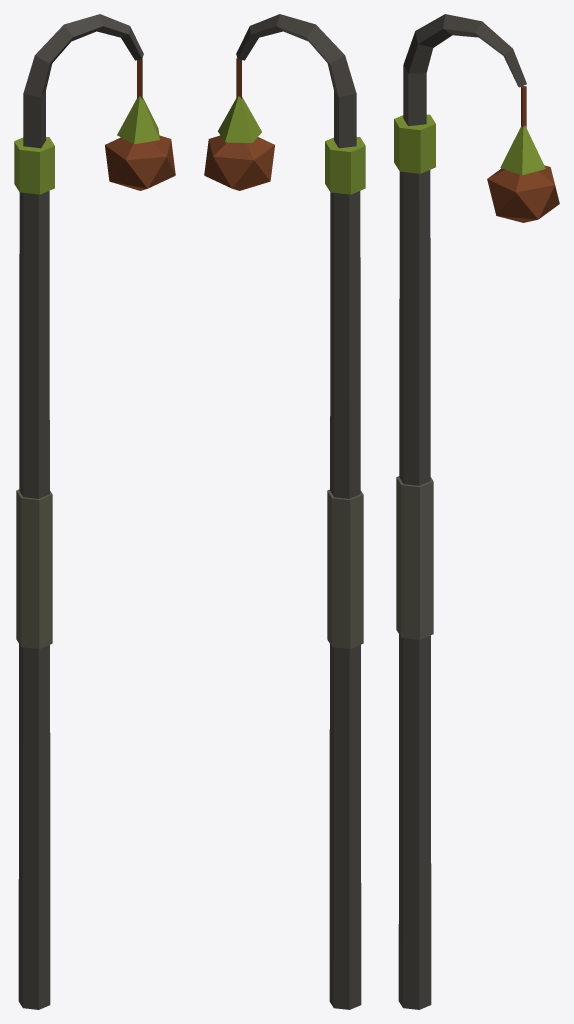
Rendered from weapon_staff.glb.
3 renders of one model, left to right at view 1: azimuth 30°, elevation 25°; view 2: azimuth 150°, elevation 25°; view 3: azimuth 330°, elevation 25°, orthographic. The views are drawn at different scales.
Parts seen in each view (by area): view 1: ratfolk_weapon_staff; view 2: ratfolk_weapon_staff; view 3: ratfolk_weapon_staff.
Boxes of the visible parts, bbox=[...] form: ratfolk_weapon_staff: bbox=[14, 14, 175, 1009]; ratfolk_weapon_staff: bbox=[204, 14, 365, 1009]; ratfolk_weapon_staff: bbox=[394, 14, 559, 1009].
Bounding box in the file's own units: 0.2277 × 1.37 × 0.0868.
